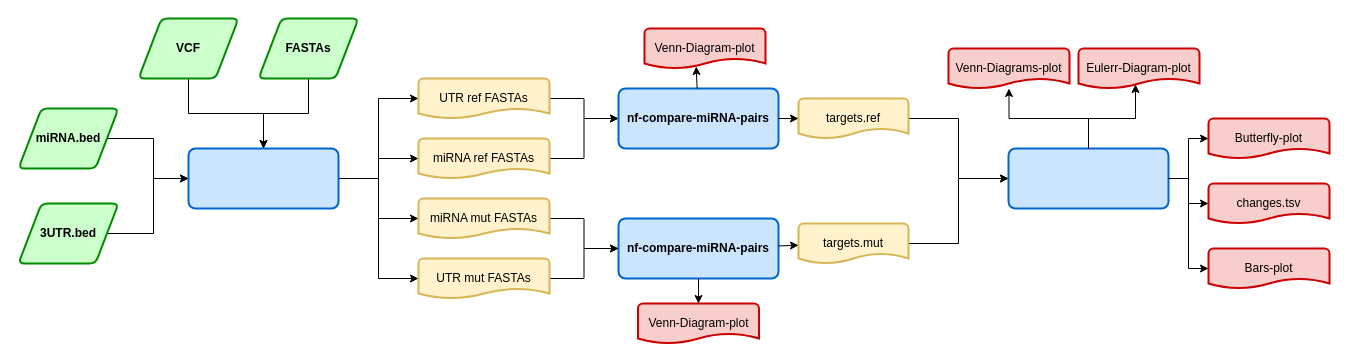
Image size: 1347x361. Some labels were removed from this diagram. The centre of each missing label's shape, as x and y in pixels:
"nf-extract-miRNA-and-UTR-FASTAs" goes at (263,178).
"nf-plot-microRNA-targets" goes at (1088,178).
